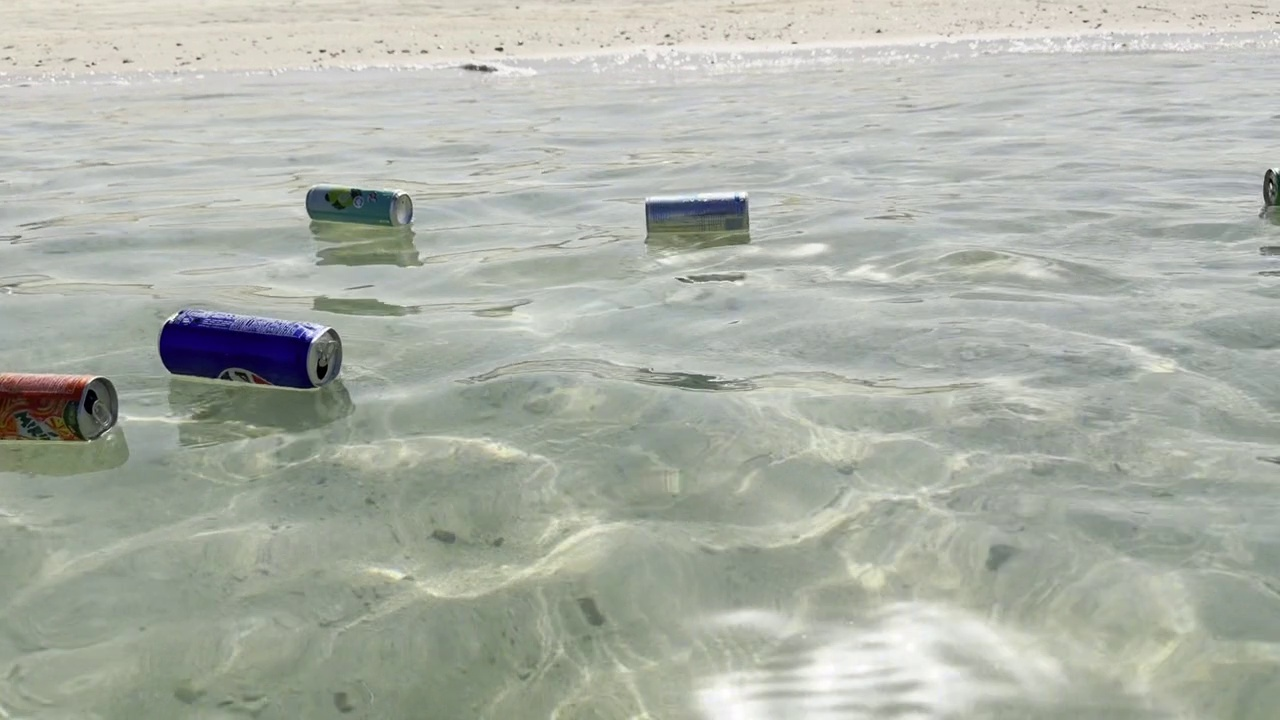debris: (136, 294, 355, 394), (0, 369, 130, 451), (641, 185, 759, 242), (301, 179, 417, 236)
